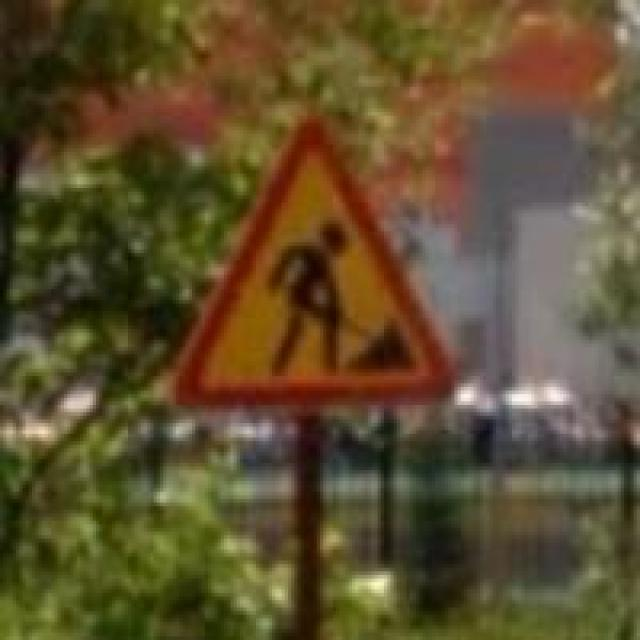traffic_sign: (170, 116, 454, 416)
